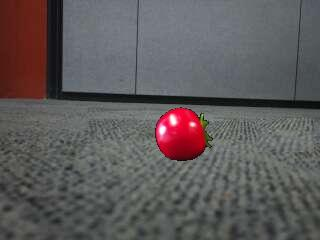Tomato: (154, 106, 216, 163)
